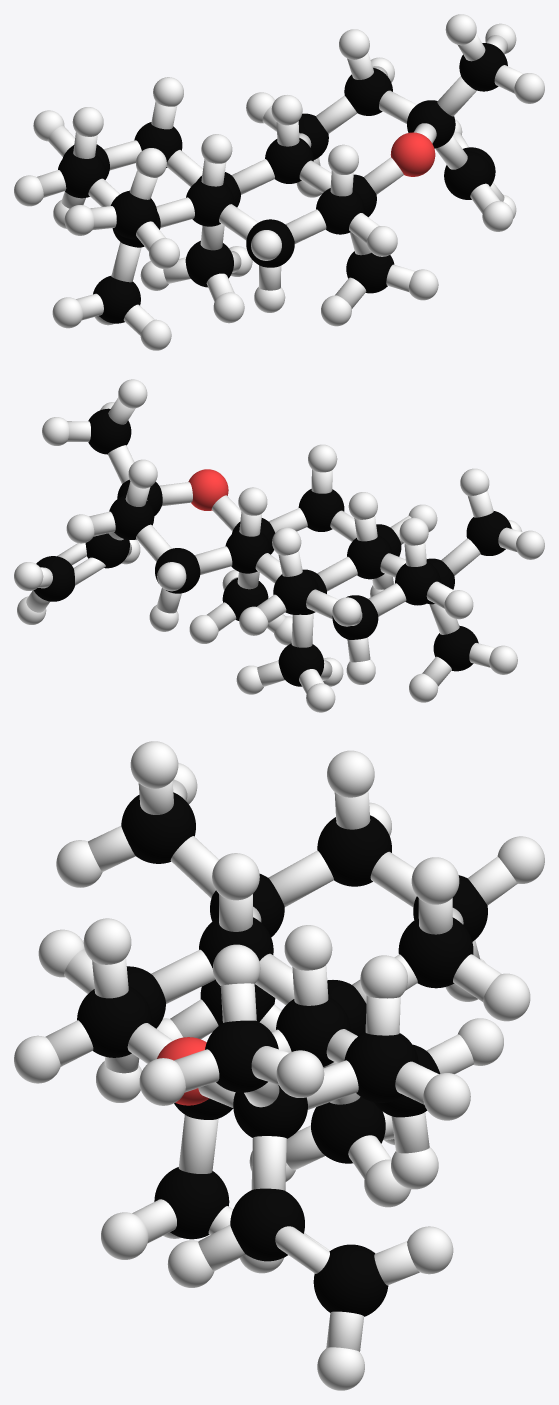
3 renders of one model, top to bottom at view 1: azimuth 30°, elevation 25°; view 2: azimuth 150°, elevation 25°; view 3: azimuth 270°, elevation 25°, orthographic. The views are drawn at different scales.
Parts seen in each view (by area): view 1: molecule; view 2: molecule; view 3: molecule.
Boxes of the visible parts, x1,y1,x2,y2 form: molecule: (14, 14, 544, 350); molecule: (14, 379, 544, 712); molecule: (14, 741, 544, 1390).
Bounding box in the file's own units: 11.21 × 5.57 × 6.67.
